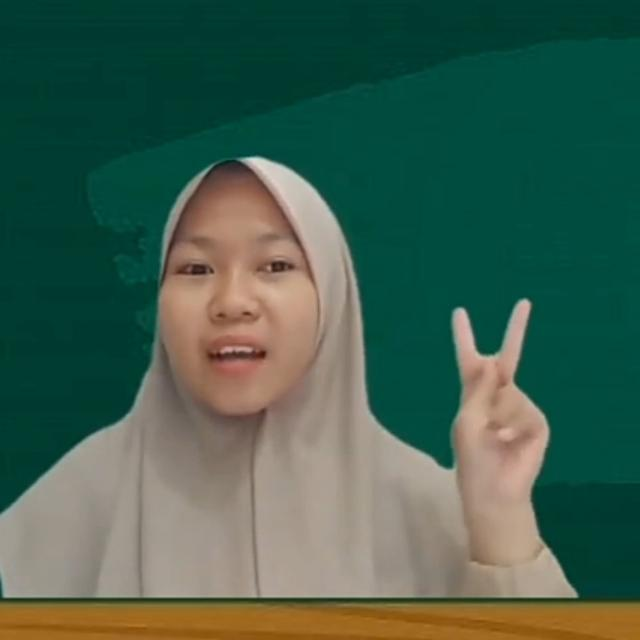K: (442, 292, 558, 530)
